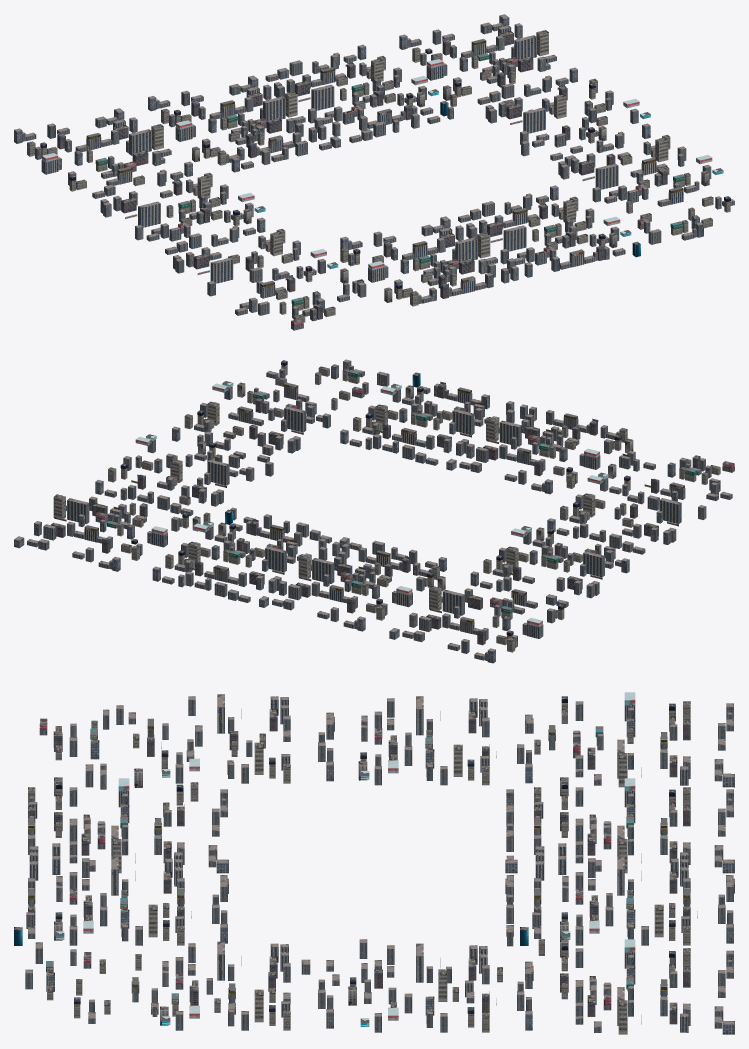
File: gaikan-bill1.obj
3 views of the same model, one above another, from view 1: azimuth 30°, elevation 25°; view 2: azimuth 150°, elevation 25°; view 3: azimuth 270°, elevation 25° (orthographic). The views are drawn at different scales.
Size of the model in its own units: 3506 by 143 by 3285.
1 material, 1 textured.
